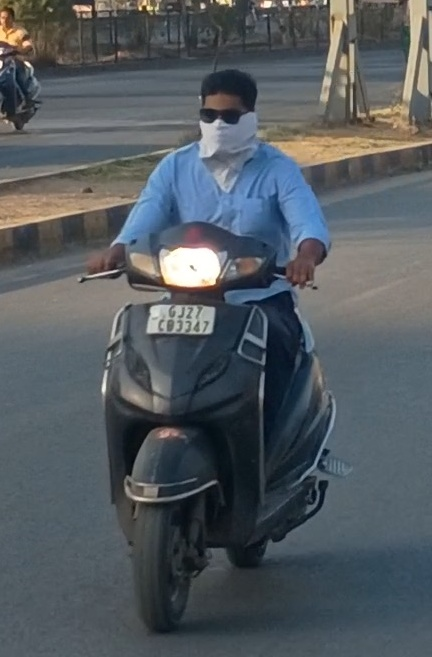BikeWithRider: (69, 62, 359, 639), (0, 1, 48, 136)
NoHelmet: (184, 62, 271, 164)
